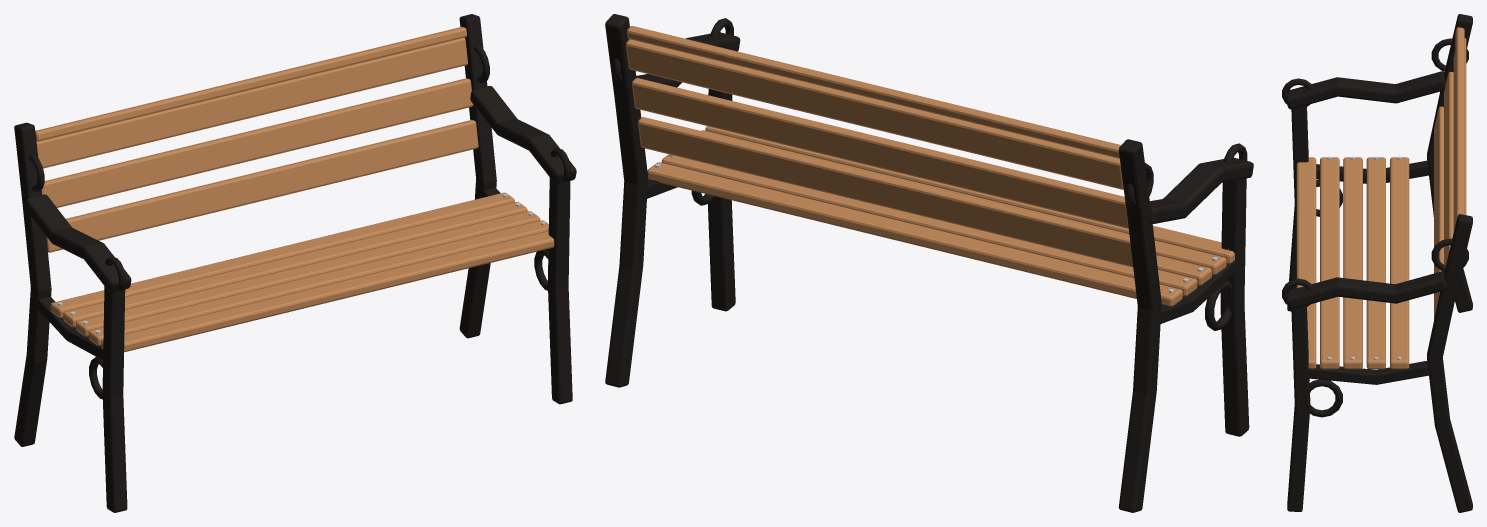
The model's file is hh_cat_garden_bench.glb.
The picture shows the model from 3 angles, left to right: view 1: azimuth 30°, elevation 25°; view 2: azimuth 150°, elevation 25°; view 3: azimuth 270°, elevation 25°; orthographic projection. The views are drawn at different scales.
Parts seen in each view (by area): view 1: back_slat.001, back_slat, back_slat.002, seat_slat, back_leg, seat_slat.002, seat_slat.003, seat_slat.001, seat_slat.004, back_slat.003, front_leg, front_leg.001 (+4 smaller); view 2: back_slat.001, back_slat, back_slat.002, seat_slat.004, back_leg, back_leg.001, back_slat.003, seat_slat.003, front_leg, seat_slat, armrest, front_leg.001 (+4 smaller); view 3: back_leg.001, seat_slat.002, seat_slat.003, seat_slat.001, seat_slat.004, front_leg.001, armrest.001, armrest, seat_slat, back_slat.003, back_slat.001, seat_rail.001 (+10 smaller).
Part boxes in pixels (x1,y1,x2,y2): back_slat.001: (41, 78, 473, 207); back_slat: (46, 120, 478, 252); back_slat.002: (36, 37, 467, 168); seat_slat: (101, 231, 554, 352); back_leg: (14, 122, 51, 446); seat_slat.002: (76, 211, 540, 336); seat_slat.003: (63, 202, 527, 327); seat_slat.001: (88, 220, 548, 345); seat_slat.004: (50, 192, 514, 317); back_slat.003: (35, 27, 466, 141); front_leg: (102, 286, 127, 512); front_leg.001: (548, 177, 572, 404); back_slat.001: (632, 78, 1128, 228); back_slat: (638, 117, 1133, 267); back_slat.002: (626, 39, 1123, 189); seat_slat.004: (647, 162, 1182, 306); back_leg: (1118, 139, 1161, 512); back_leg.001: (605, 14, 648, 387); back_slat.003: (627, 26, 1121, 158); seat_slat.003: (661, 154, 1197, 296); front_leg: (1220, 178, 1249, 436); seat_slat: (705, 126, 1234, 263); armrest: (1150, 157, 1253, 224); front_leg.001: (708, 89, 735, 311); back_leg.001: (1427, 214, 1472, 512); seat_slat.002: (1343, 157, 1362, 369); seat_slat.003: (1366, 157, 1385, 369); seat_slat.001: (1320, 157, 1339, 369); seat_slat.004: (1390, 157, 1409, 369); front_leg.001: (1287, 305, 1310, 511); armrest.001: (1286, 271, 1447, 309); armrest: (1286, 71, 1446, 109); seat_slat: (1296, 157, 1316, 368); back_slat.003: (1455, 27, 1464, 224); back_slat.001: (1444, 71, 1453, 271); seat_rail.001: (1308, 361, 1429, 384).
Size of the model in its own units: 1.3 by 0.85 by 0.5.
